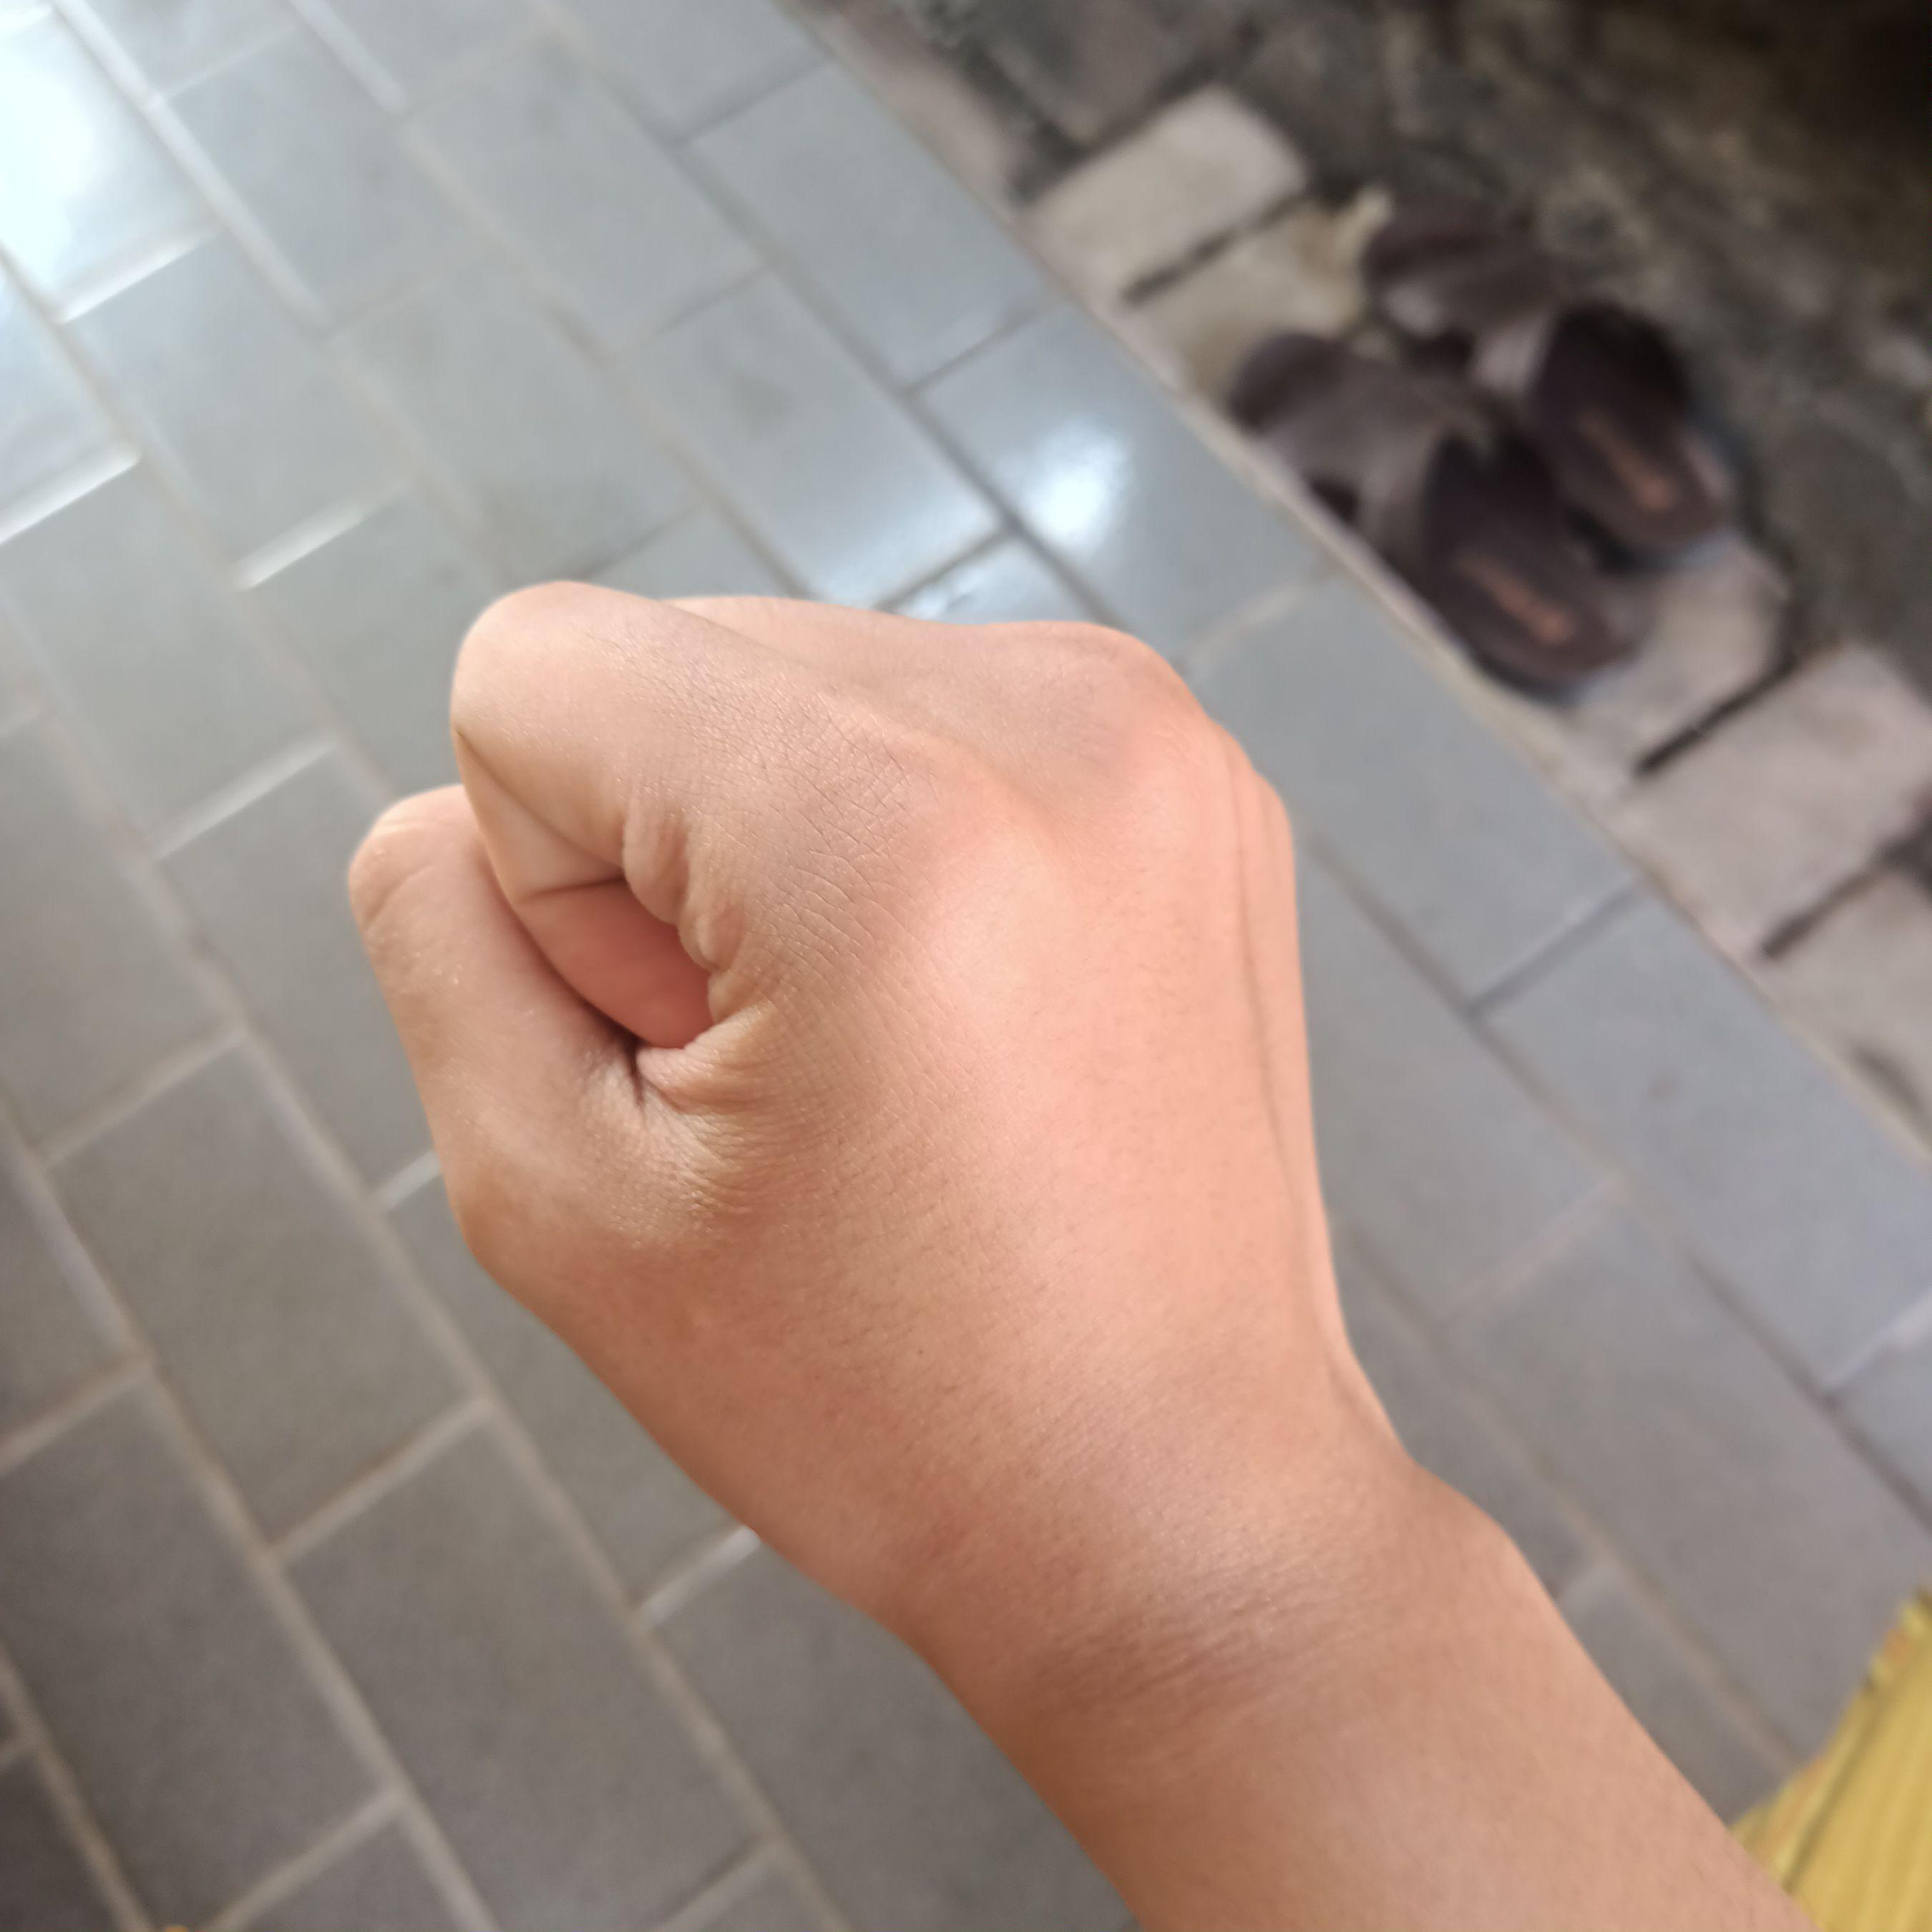rock: (301, 554, 1408, 1789)
